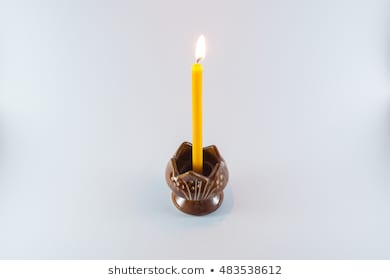Fire: (192, 32, 208, 66)
